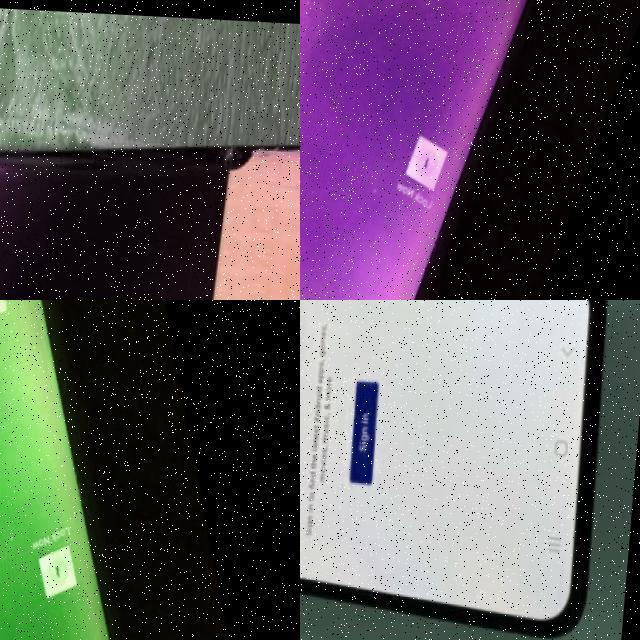dead pixel: (220, 123, 264, 183)
